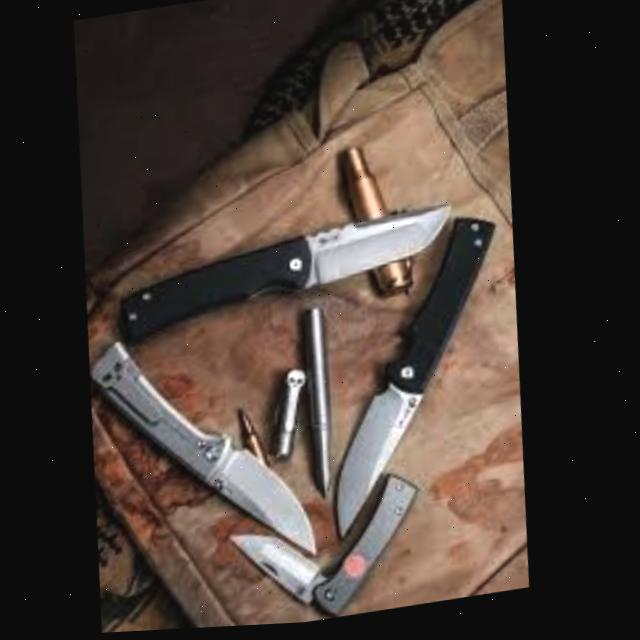Knife: (311, 212, 531, 544), (81, 312, 339, 591), (113, 202, 465, 350), (227, 471, 438, 630)
